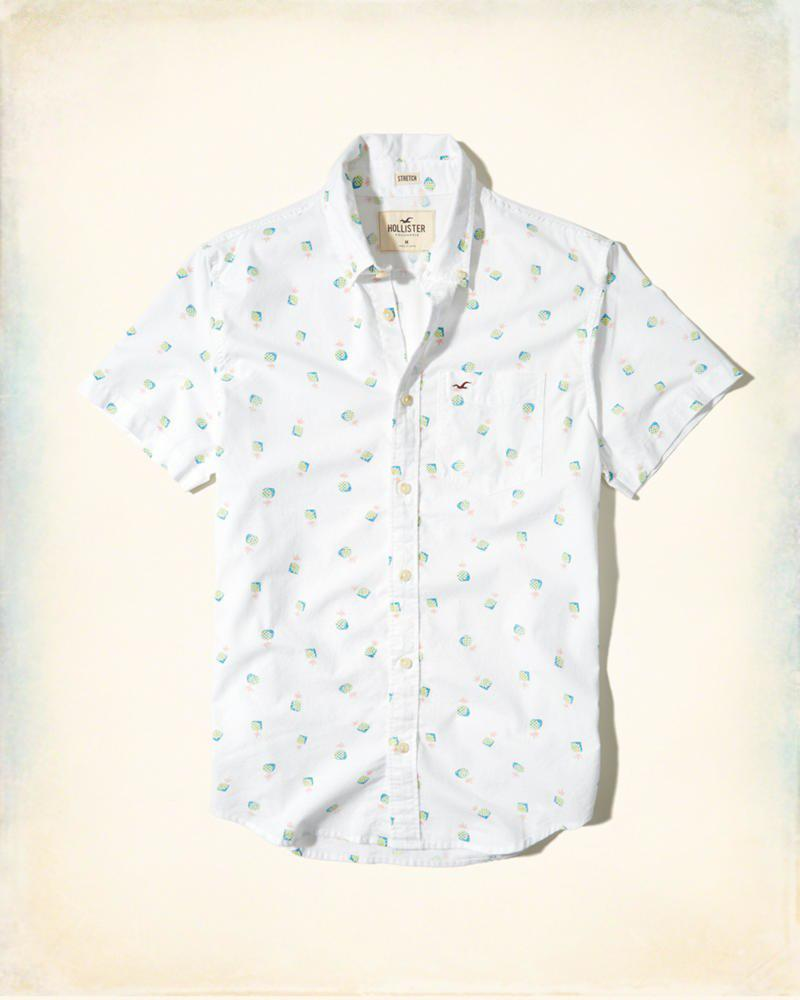teeshirt: (83, 122, 753, 871)
